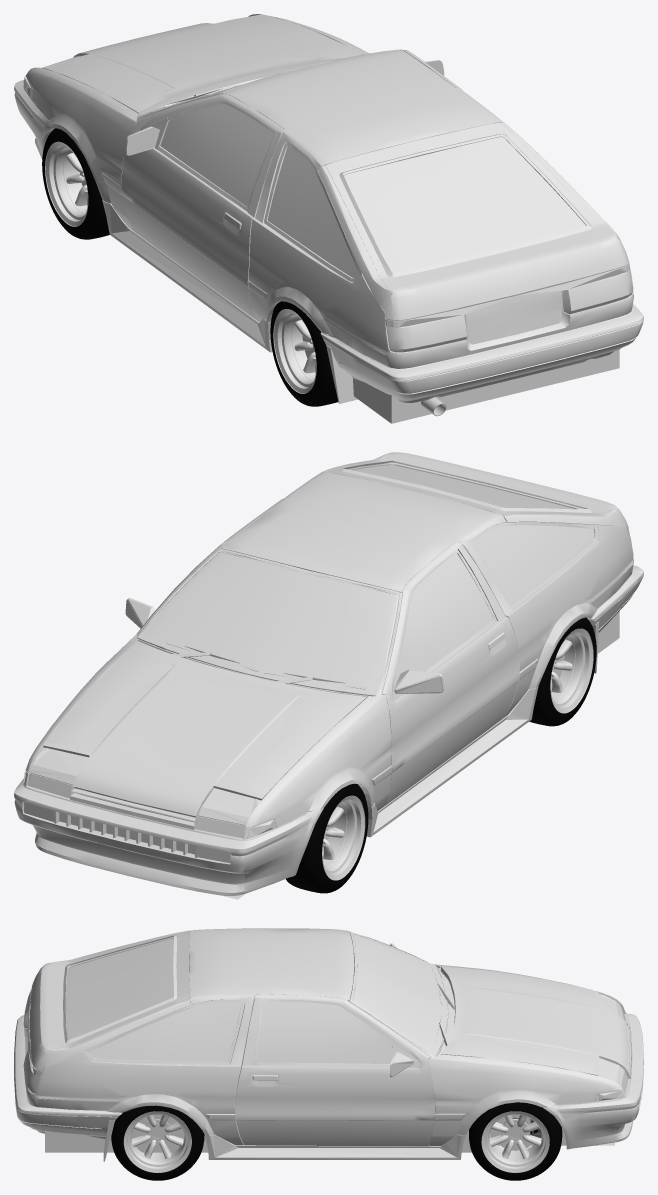
File: car-ae86-mid.fbx
The picture shows the model from 3 angles, top to bottom: view 1: azimuth 30°, elevation 25°; view 2: azimuth 150°, elevation 25°; view 3: azimuth 270°, elevation 25°; orthographic projection. The views are drawn at different scales.
Parts seen in each view (by area): view 1: Body_Paint, Hatch_Glass, Hood_Paint, Hatch_Paint, Body_Second, DoorL_Paint, Body_Trim, BumperRear_Trim, DoorGlassL_Glass, Windows_Glass, Body_Lining, DoorL_Second (+13 smaller); view 2: Body_Paint, Hood_Paint, Windows_Glass, BumperFront_Trim, DoorL_Paint, Body_Trim, DoorGlassL_Glass, DoorL_Second, Body_Second, Hatch_Paint, Hatch_Glass, WheelFL_Rim (+11 smaller); view 3: Body_Paint, Hood_Paint, Windows_Glass, DoorR_Paint, Body_Trim, Hatch_Glass, DoorGlassR_Glass, DoorR_Second, Body_Second, Hatch_Paint, BumperFront_Trim, WheelFR_Rim (+11 smaller).
Boxes of the visible parts, left/top/right/bottom form: Body_Paint: left=26, top=14, right=633, bottom=355; Hatch_Glass: left=344, top=137, right=586, bottom=272; Hood_Paint: left=43, top=14, right=362, bottom=114; Hatch_Paint: left=325, top=122, right=627, bottom=320; Body_Second: left=49, top=115, right=633, bottom=368; DoorL_Paint: left=121, top=94, right=284, bottom=289; Body_Trim: left=26, top=49, right=629, bottom=403; BumperRear_Trim: left=323, top=321, right=643, bottom=402; DoorGlassL_Glass: left=160, top=104, right=273, bottom=207; Windows_Glass: left=137, top=86, right=358, bottom=277; Body_Lining: left=137, top=49, right=627, bottom=423; DoorL_Second: left=121, top=177, right=254, bottom=318; Body_Paint: left=26, top=453, right=633, bottom=827; Hood_Paint: left=43, top=641, right=366, bottom=815; Windows_Glass: left=137, top=525, right=593, bottom=695; BumperFront_Trim: left=14, top=778, right=324, bottom=895; DoorL_Paint: left=382, top=541, right=519, bottom=774; Body_Trim: left=24, top=522, right=629, bottom=839; DoorGlassL_Glass: left=400, top=553, right=493, bottom=671; DoorL_Second: left=385, top=662, right=519, bottom=805; Body_Second: left=309, top=559, right=633, bottom=811; Hatch_Paint: left=326, top=452, right=619, bottom=514; Hatch_Glass: left=352, top=465, right=574, bottom=509; WheelFL_Rim: left=322, top=795, right=365, bottom=880; Body_Paint: left=35, top=928, right=621, bottom=1121; Hood_Paint: left=441, top=966, right=627, bottom=1075; Windows_Glass: left=90, top=934, right=446, bottom=1061; DoorR_Paint: left=235, top=994, right=434, bottom=1122; Body_Trim: left=28, top=932, right=626, bottom=1161; Hatch_Glass: left=66, top=938, right=173, bottom=1039; DoorGlassR_Glass: left=256, top=1001, right=392, bottom=1063; DoorR_Second: left=235, top=1106, right=434, bottom=1145; Body_Second: left=24, top=1027, right=555, bottom=1145; Hatch_Paint: left=29, top=931, right=190, bottom=1068; BumperFront_Trim: left=543, top=1013, right=643, bottom=1149; WheelFR_Rim: left=481, top=1111, right=549, bottom=1172.
Size of the model in its own units: 7.71 by 5.12 by 16.9.
Materials: 33 (2 with a texture image).
